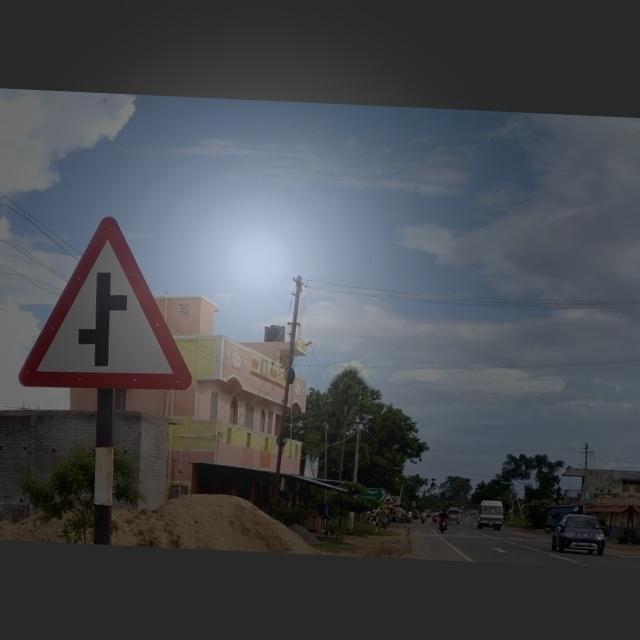Staggered_Intersection: (21, 205, 211, 397)
